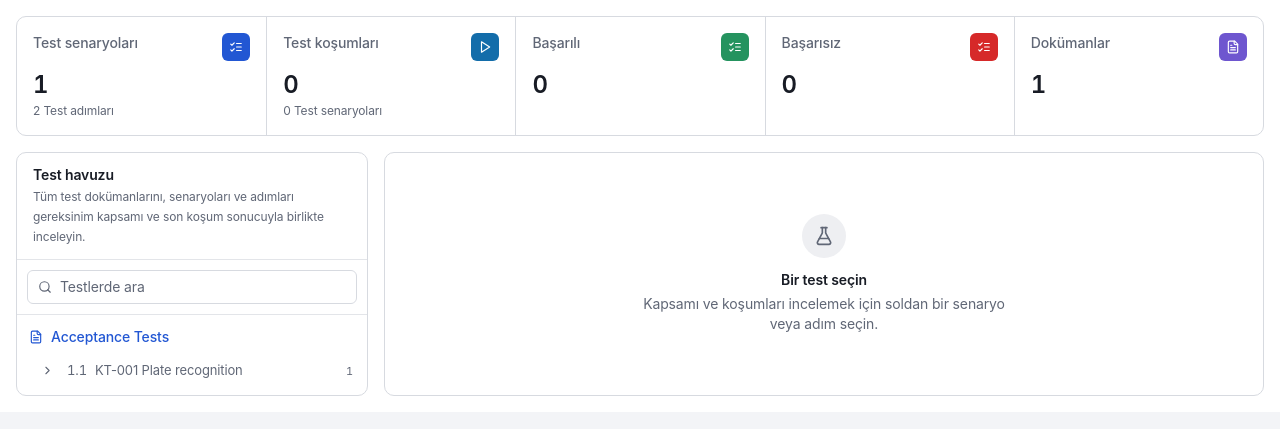
it: TestRepositoryPage › lists test documents with scenario counts and inspects coverage
The width and height of the screenshot is (1280, 429).
Expected: the button with test id "repository-document-doc-test" is shown, [17,319,367,355]
Click the button with test id "repository-scenario-1.1" at [210, 371], box [61,355,359,386]
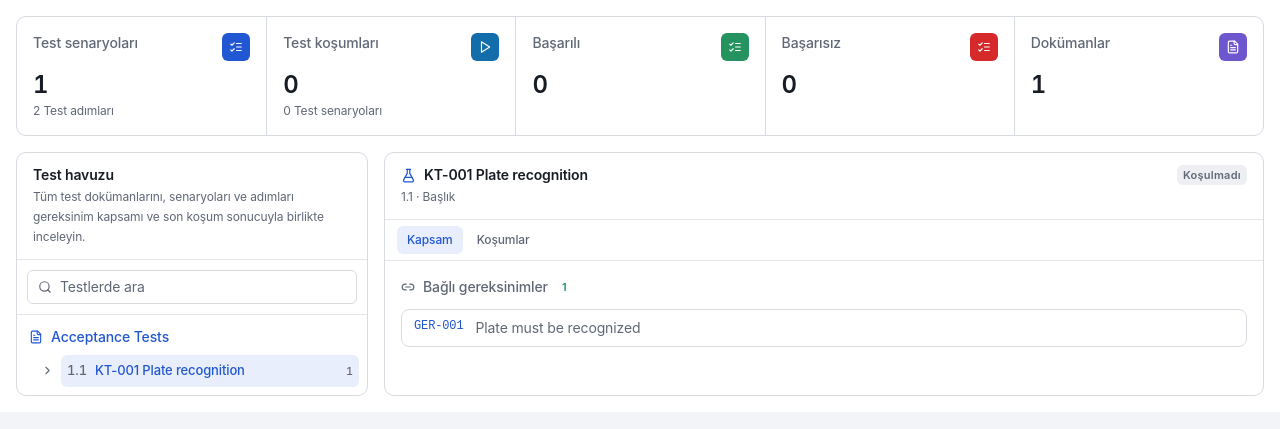
Now the element with test id "test-repository-detail" is shown, box [384,152,1264,396]
Now the text "GER-001" is shown, box [414,318,464,334]
Now the text "Koşulmadı" is shown, box [1177,165,1247,185]
